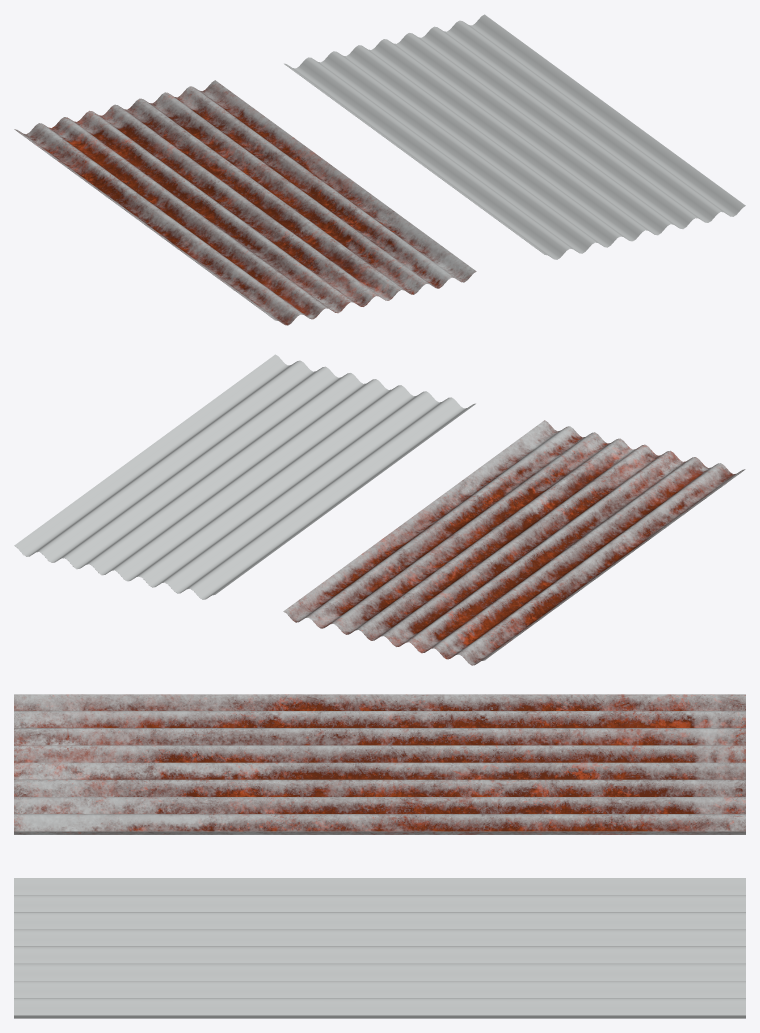
The model's file is zinc_roof.glb.
3 renders of one model, top to bottom at view 1: azimuth 30°, elevation 25°; view 2: azimuth 150°, elevation 25°; view 3: azimuth 270°, elevation 25°, orthographic. The views are drawn at different scales.
Visible parts, largest first — view 1: basic, rust; view 2: basic, rust; view 3: rust, basic.
Part boxes in pixels (x1,y1,x2,y2): basic: (284, 14, 745, 259); rust: (14, 80, 476, 325); basic: (14, 354, 475, 599); rust: (283, 420, 745, 665); rust: (14, 694, 745, 834); basic: (14, 878, 745, 1018).
Bounding box in the file's own units: 2.08 × 0.0343 × 2.
2 materials, 2 textured.
